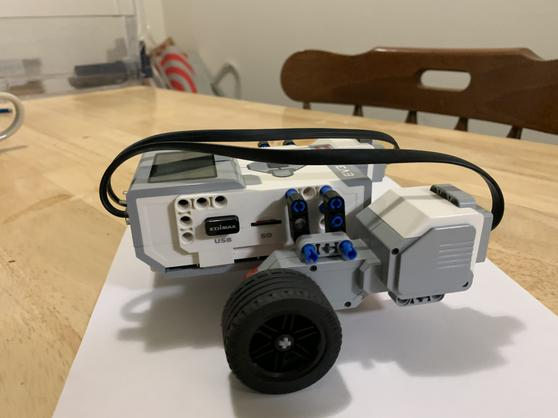robot: (95, 129, 515, 397)
